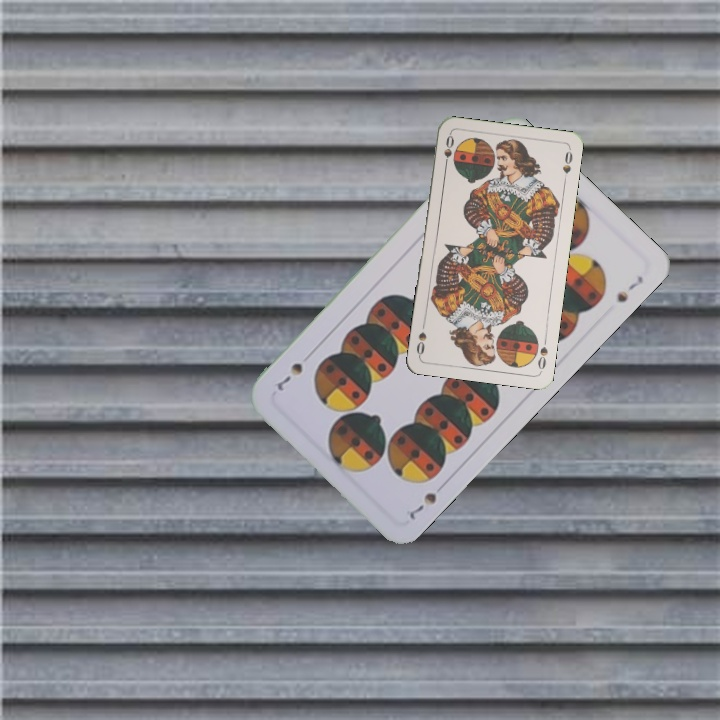S7: (401, 488, 439, 522)
SO: (440, 131, 457, 171), (534, 333, 550, 374)
